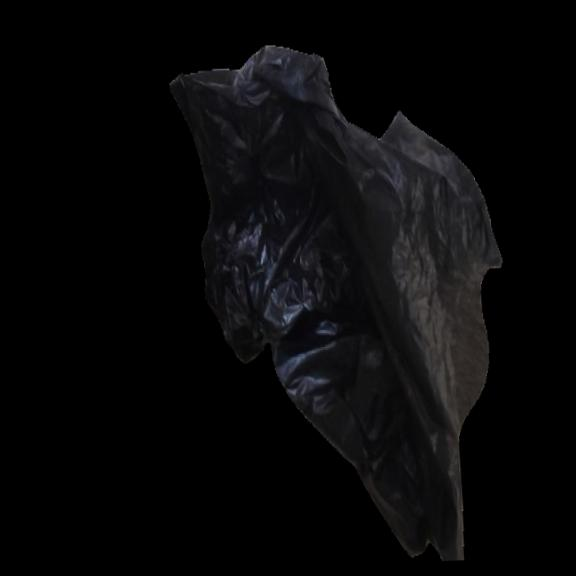Plastik: (161, 34, 526, 570)
